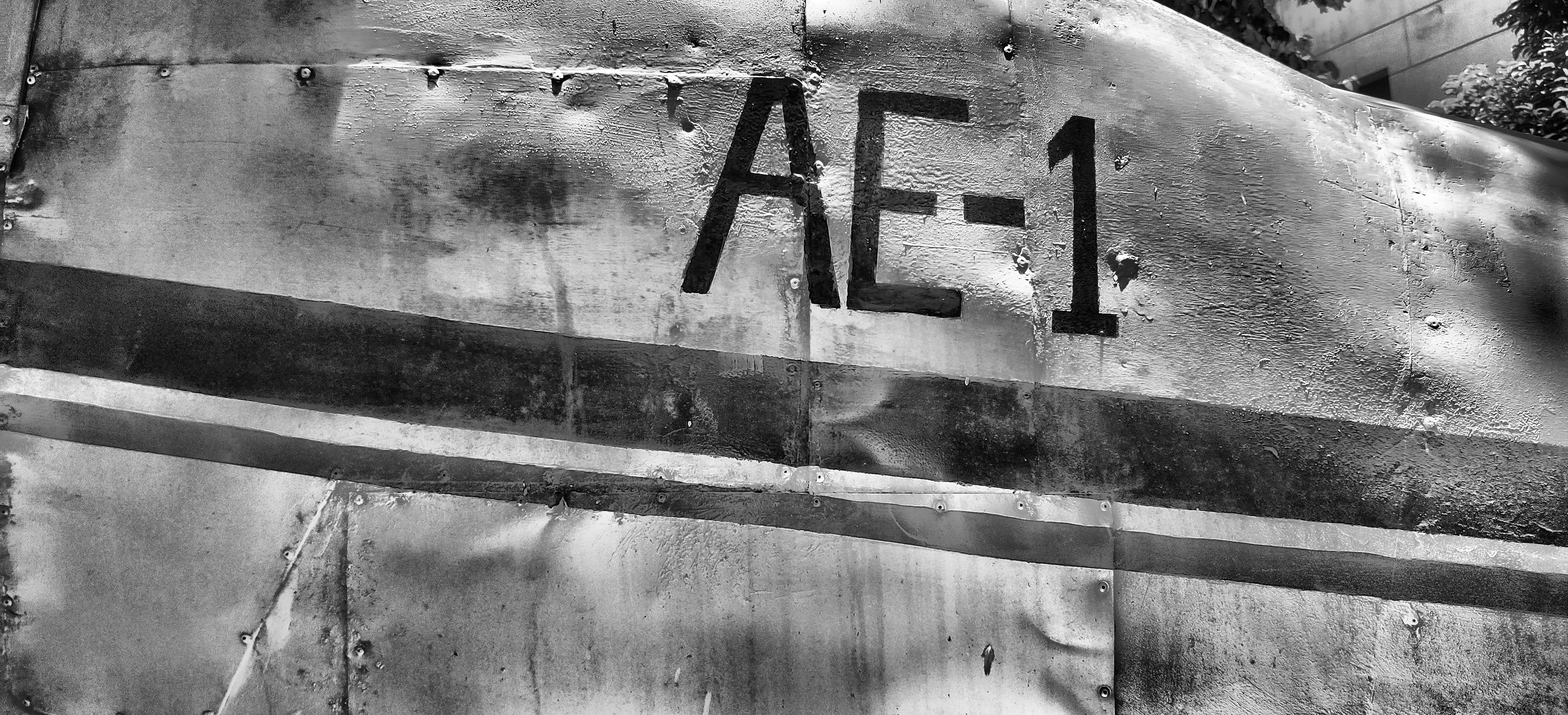dent: (1417, 139, 1495, 201), (1395, 372, 1457, 450), (477, 511, 561, 568), (256, 563, 303, 653), (1022, 616, 1109, 657), (2, 179, 49, 213), (564, 90, 598, 120), (9, 146, 26, 177)
paint-peel-off: (1105, 246, 1140, 285)
scratch: (1321, 176, 1403, 212)
